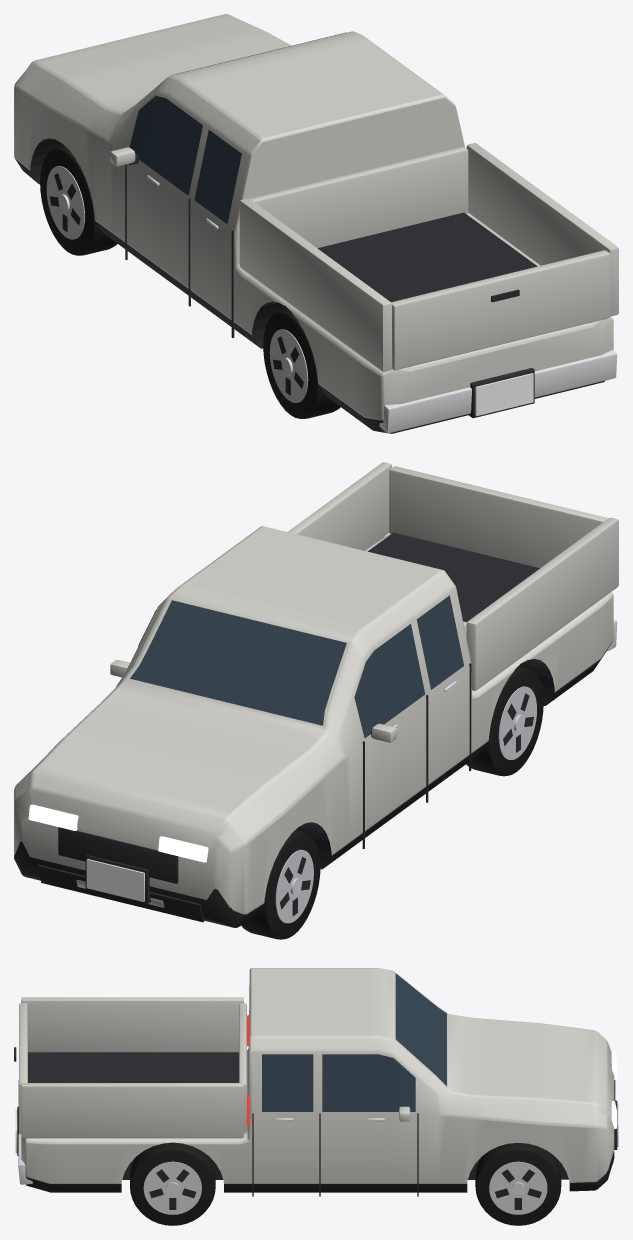
The model's file is pickup.glb.
3 renders of one model, top to bottom at view 1: azimuth 30°, elevation 25°; view 2: azimuth 150°, elevation 25°; view 3: azimuth 270°, elevation 25°, orthographic. The views are drawn at different scales.
Parts seen in each view (by area): view 1: CAR_pickup; view 2: CAR_pickup; view 3: CAR_pickup.
Part boxes in pixels (x1,y1,x2,y2): CAR_pickup: [14, 14, 618, 433]; CAR_pickup: [14, 462, 618, 939]; CAR_pickup: [14, 968, 618, 1225].
Size of the model in its own units: 2.26 by 1.8 by 5.43.
